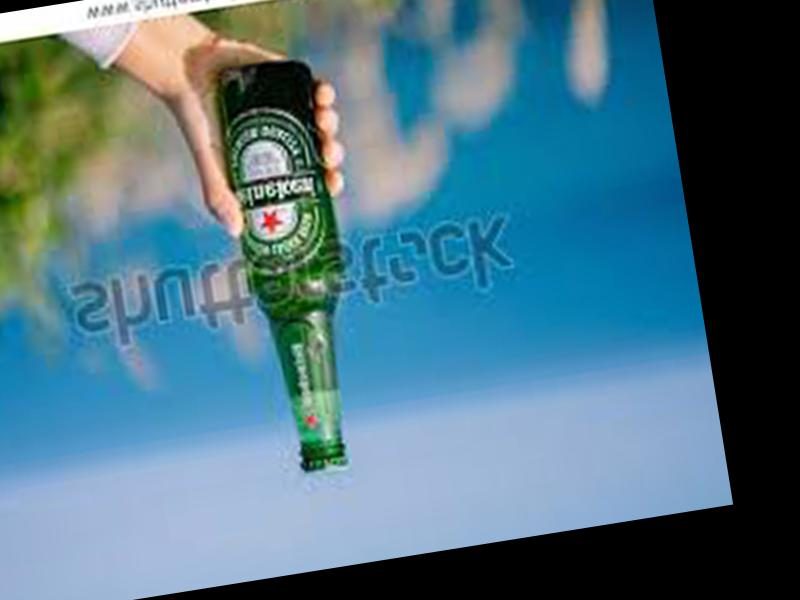Beer: (211, 54, 373, 479)
